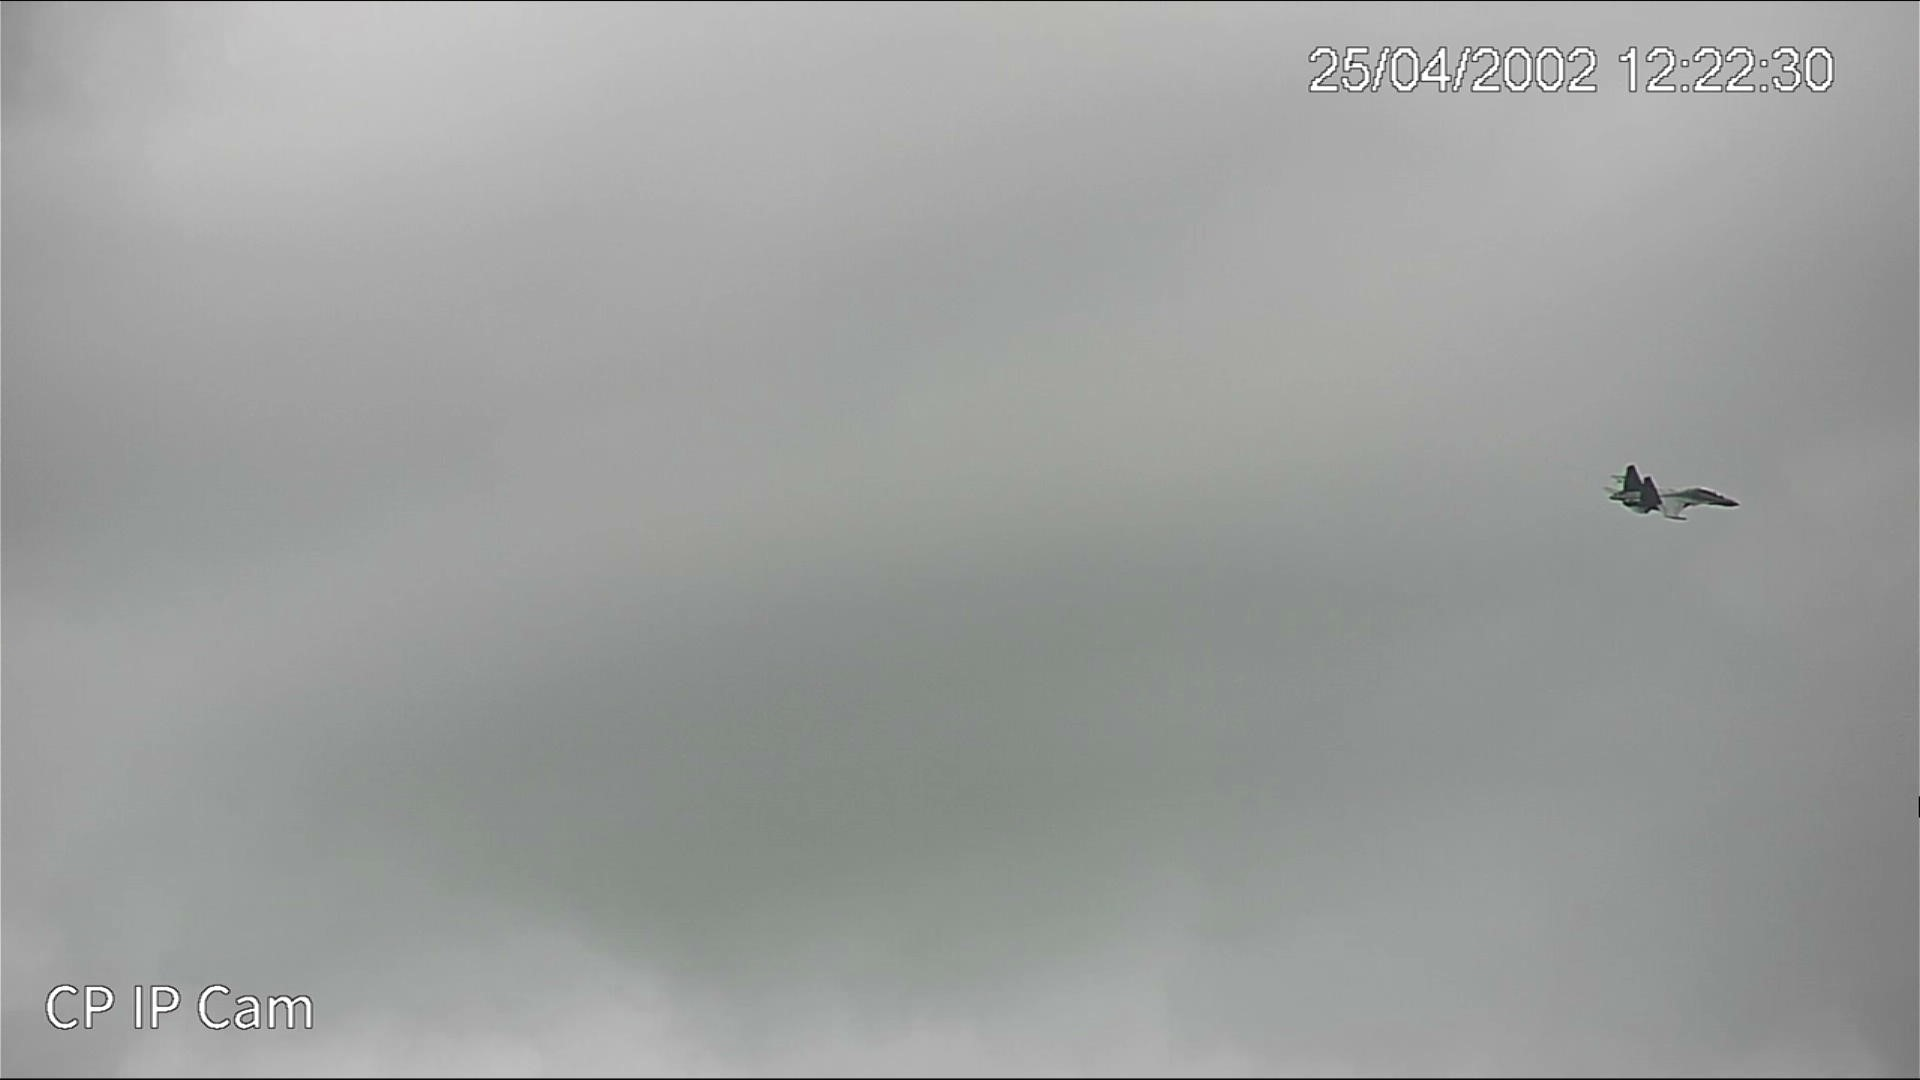SU_30: (1607, 467, 1750, 524)
